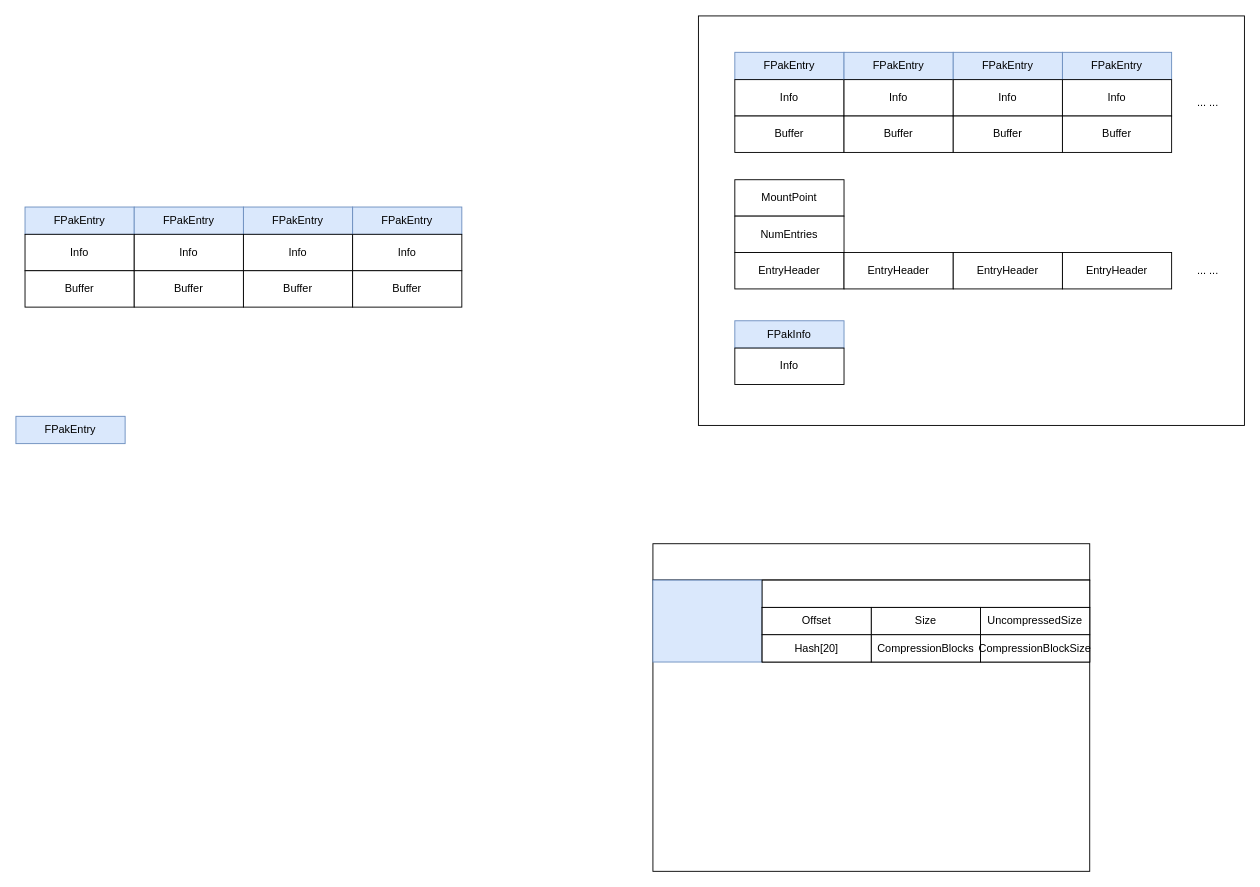
Some shapes in this 1260 by 887 pixel diagram are drawn without their labels. Each missing label, with the centre of its shape:
"Filename" belongs at [925,593].
"FPakEntryPair" belongs at [707,620].
"PrepareCopyFileToPak" belongs at [871,561].
